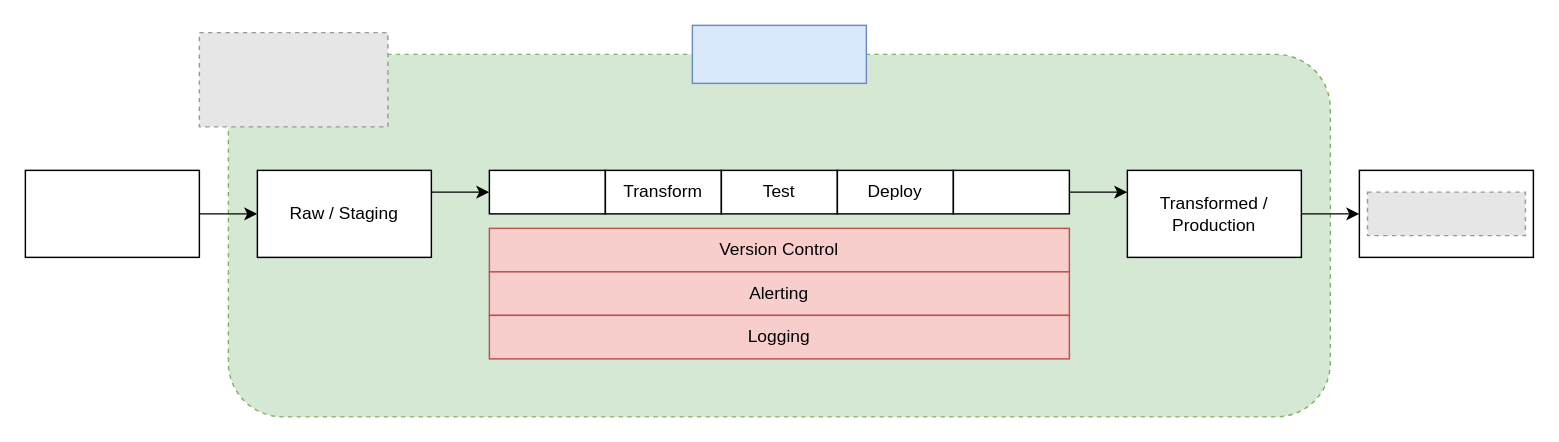
Some shapes in this 1559 by 442 pixel diagram are drawn without their labels. Grey dashed boxes stand in for pictures. The box of each missing label's shape, as (x1, y1, x2, y2) in pixels:
Data Loaders: (24, 169, 199, 257)
Data Warehouse: (691, 24, 866, 83)
Document: (952, 169, 1069, 214)
Snapshot: (488, 169, 605, 214)
